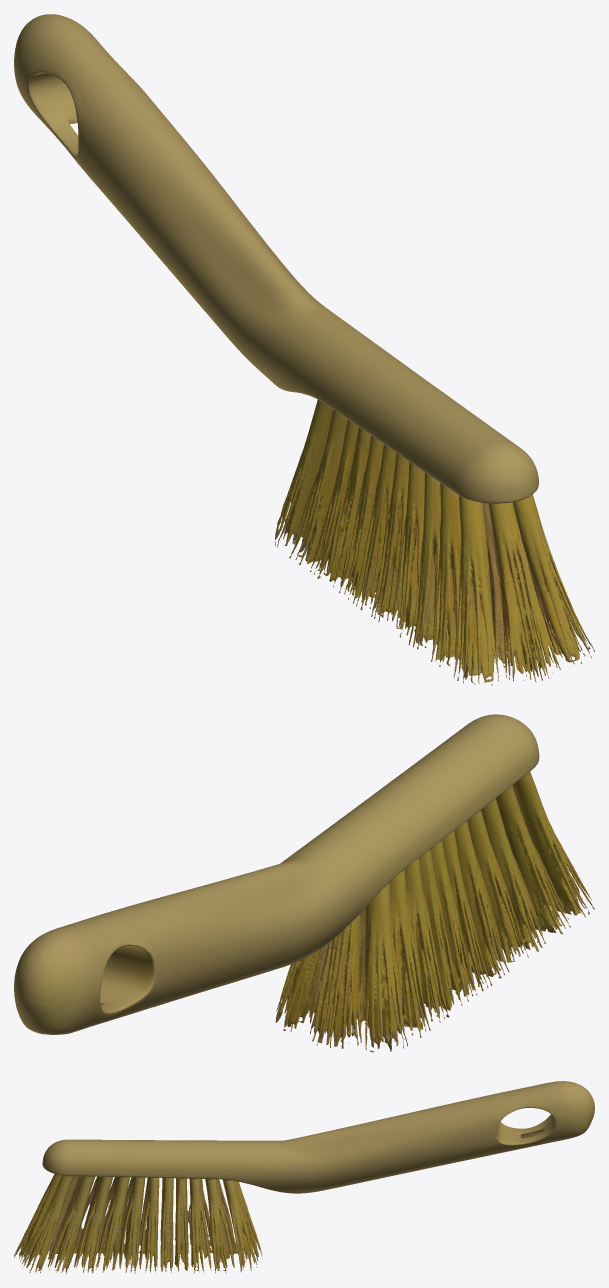
File: broom_visual.glb
3 views of the same model, one above another, from view 1: azimuth 30°, elevation 25°; view 2: azimuth 150°, elevation 25°; view 3: azimuth 270°, elevation 25° (orthographic). The views are drawn at different scales.
Parts seen in each view (by area): view 1: m0; view 2: m0; view 3: m0.
Part boxes in pixels (<box>): m0: <box>14,14,594,685</box>; m0: <box>14,714,594,1052</box>; m0: <box>14,1081,594,1273</box>.
Bounding box in the file's own units: 0.0374 × 0.0828 × 0.25.
Materials: 1 (1 with a texture image).
